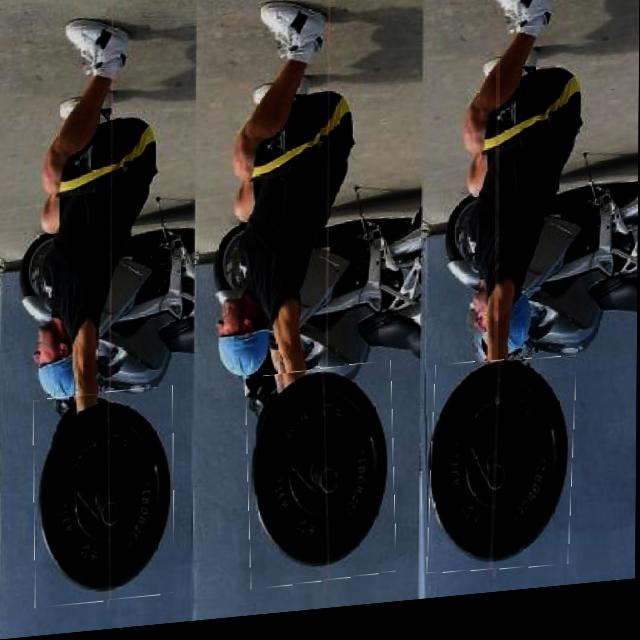barbell: (248, 370, 397, 595), (431, 365, 577, 586), (35, 390, 176, 610)
